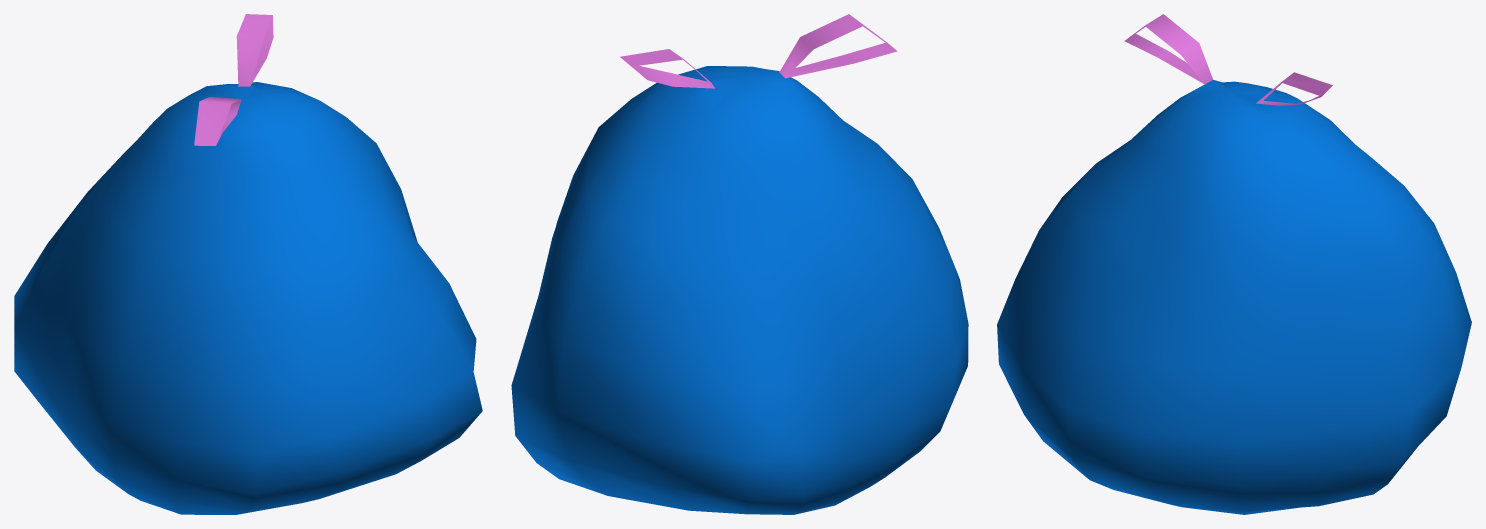
File: Bin Bag.fbx
The picture shows the model from 3 angles, left to right: view 1: azimuth 30°, elevation 25°; view 2: azimuth 150°, elevation 25°; view 3: azimuth 270°, elevation 25°; orthographic projection. The views are drawn at different scales.
Parts seen in each view (by area): view 1: Binbag; view 2: Binbag; view 3: Binbag.
Boxes of the visible parts, x1,y1,x2,y2 form: Binbag: [14, 14, 482, 514]; Binbag: [511, 14, 968, 514]; Binbag: [997, 14, 1471, 514].
Size of the model in its own units: 44.04 by 48.61 by 51.22.
